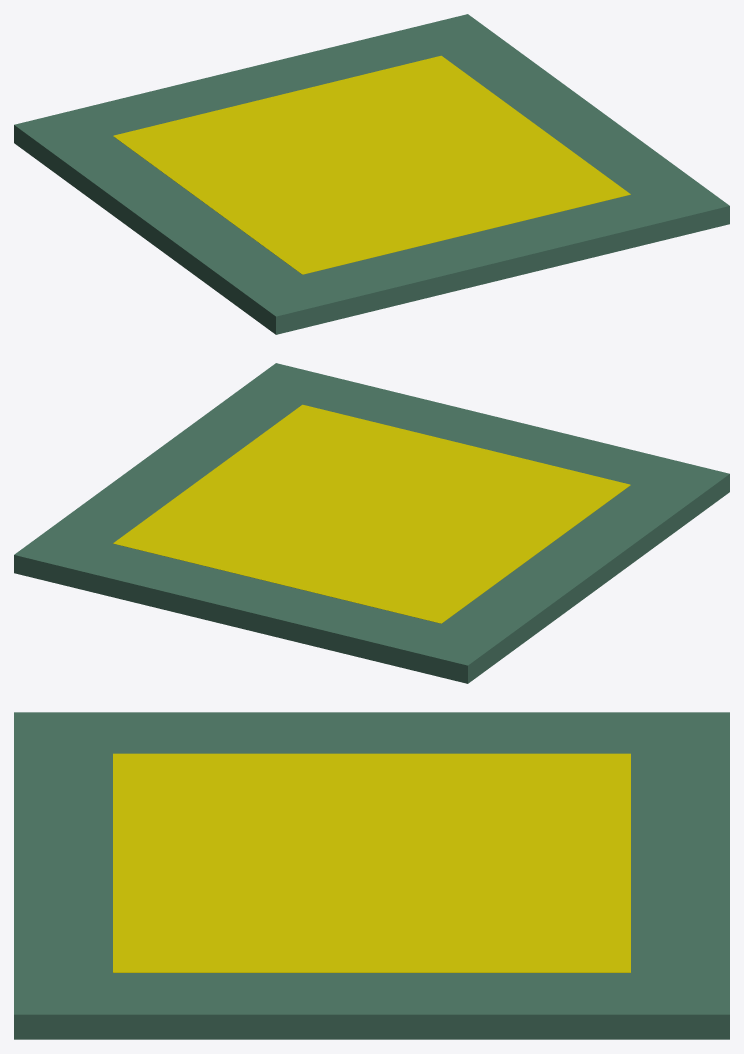
The model's file is slab_B.glb.
The picture shows the model from 3 angles, top to bottom: view 1: azimuth 30°, elevation 25°; view 2: azimuth 150°, elevation 25°; view 3: azimuth 270°, elevation 25°; orthographic projection. The views are drawn at different scales.
Parts seen in each view (by area): view 1: =>[0:1:1:3], =>[0:1:1:2]; view 2: =>[0:1:1:3], =>[0:1:1:2]; view 3: =>[0:1:1:3], =>[0:1:1:2].
Part boxes in pixels (left/top/right/bottom): =>[0:1:1:3]: left=14, top=14, right=729, bottom=334; =>[0:1:1:2]: left=113, top=55, right=630, bottom=274; =>[0:1:1:3]: left=14, top=363, right=729, bottom=683; =>[0:1:1:2]: left=113, top=404, right=630, bottom=623; =>[0:1:1:3]: left=14, top=712, right=729, bottom=1039; =>[0:1:1:2]: left=113, top=753, right=630, bottom=972.
Bounding box in the file's own units: 0.08 × 0.00312 × 0.08.
